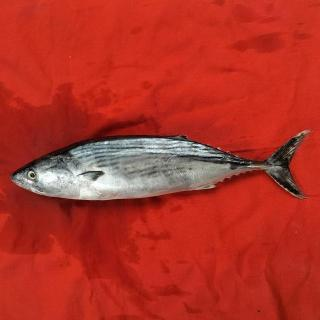Ikan: (10, 120, 318, 222)
